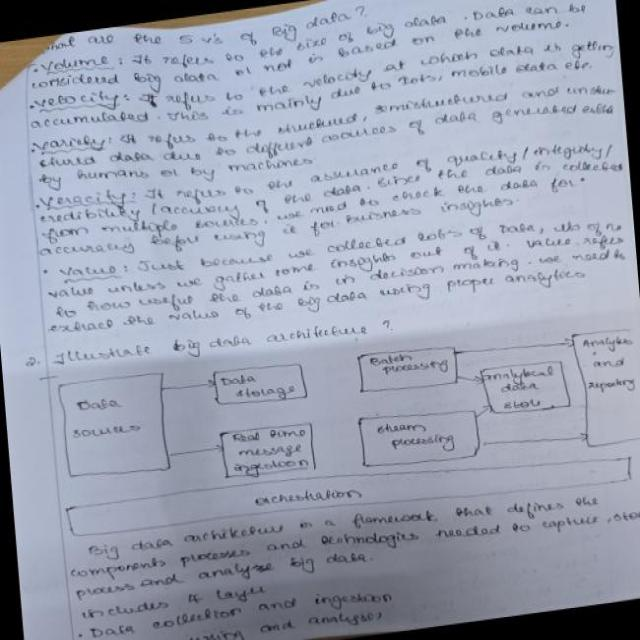Figure Detection - v3 Dataset Version2: (41, 289, 640, 562)
